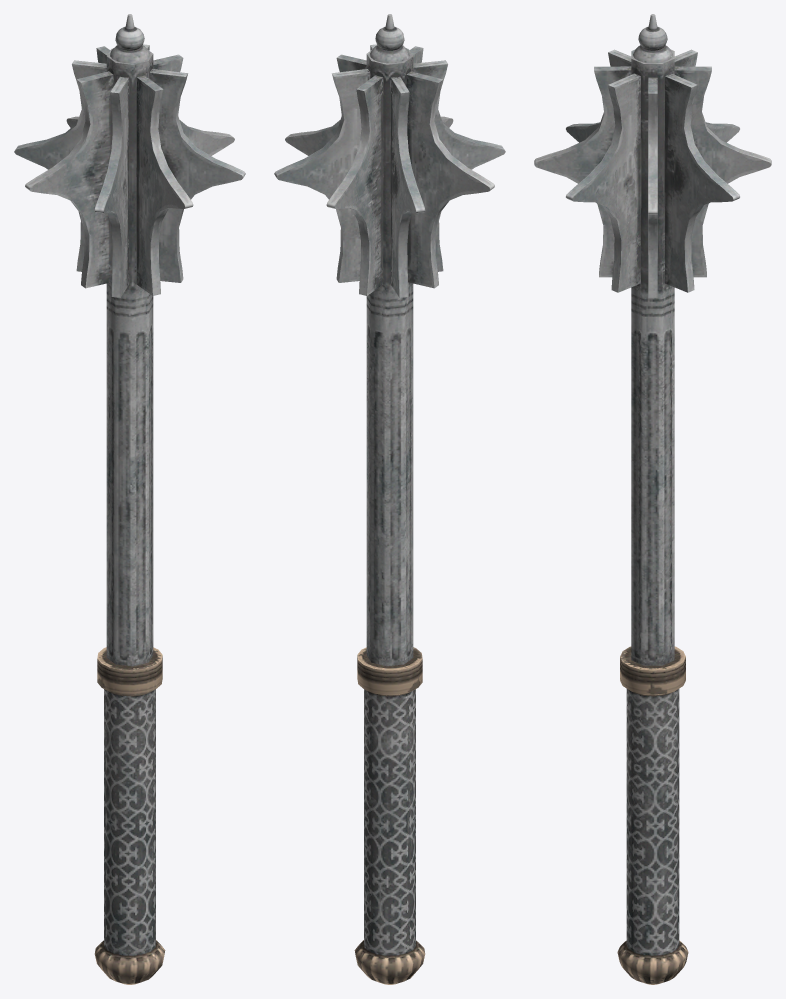
Rendered from Mace_03.fbx.
3 renders of one model, left to right at view 1: azimuth 30°, elevation 25°; view 2: azimuth 150°, elevation 25°; view 3: azimuth 270°, elevation 25°, orthographic.
Parts seen in each view (by area): view 1: Mace_03_LOD0; view 2: Mace_03_LOD0; view 3: Mace_03_LOD0.
Boxes of the visible parts, x1=… form: Mace_03_LOD0: x1=14, y1=14, x2=245, y2=984; Mace_03_LOD0: x1=274, y1=14, x2=505, y2=984; Mace_03_LOD0: x1=534, y1=14, x2=771, y2=984.
Size of what is drawn, in the model's own units: 13.31 by 59.75 by 13.31.
